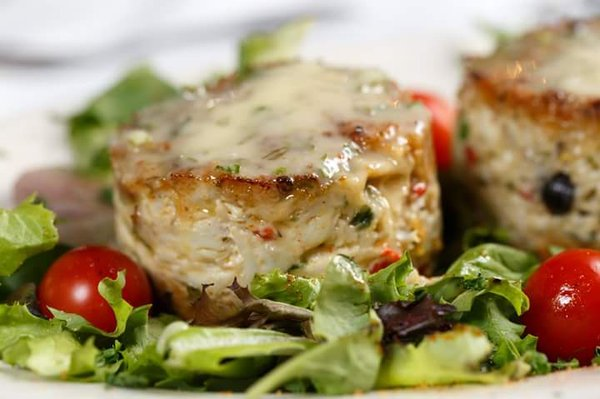soup: (96, 28, 445, 338)
